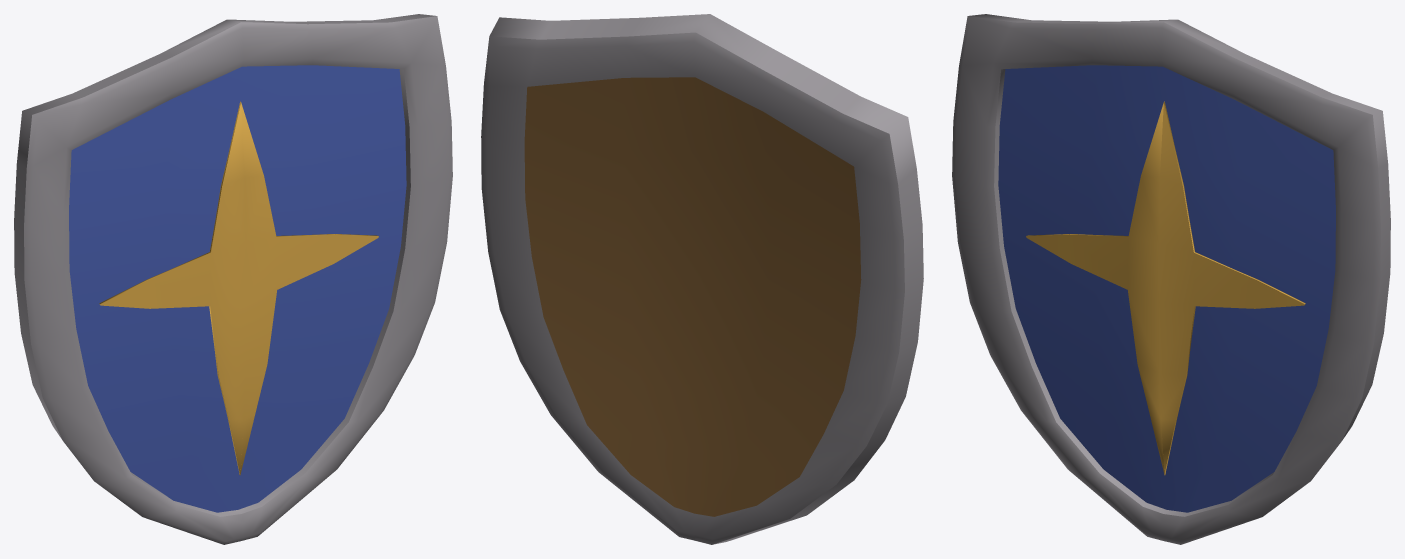
The model's file is partsShield_Normal.fbx.
The picture shows the model from 3 angles, left to right: view 1: azimuth 30°, elevation 25°; view 2: azimuth 150°, elevation 25°; view 3: azimuth 330°, elevation 25°; orthographic projection.
Visible parts, largest first — view 1: Cube; view 2: Cube; view 3: Cube.
Boxes of the visible parts, x1,y1,x2,y2 form: Cube: (14, 14, 452, 544); Cube: (481, 14, 923, 544); Cube: (952, 14, 1390, 544).
Bounding box in the file's own units: 203 × 235 × 22.17.
1 material, 1 textured.
